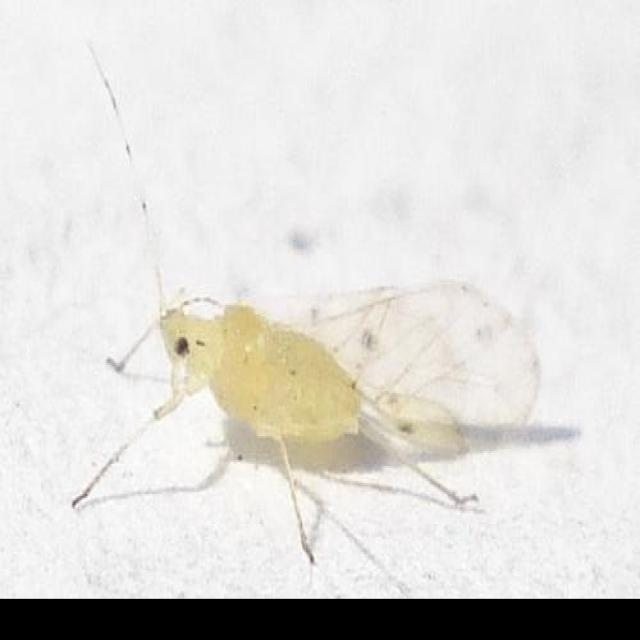Aphids: (92, 138, 555, 557)
